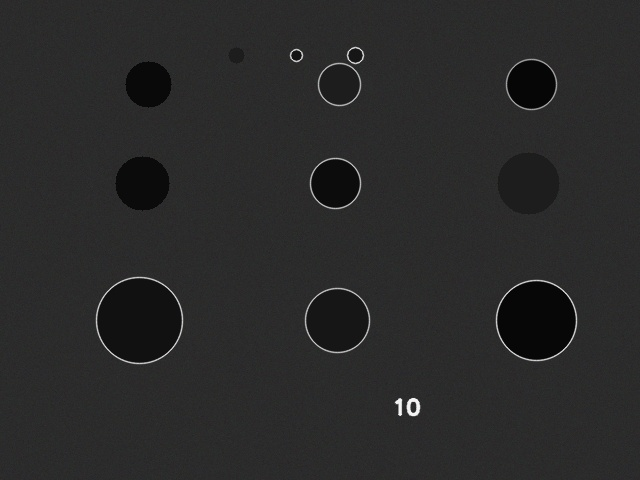hole: (96, 277, 182, 363), (496, 280, 576, 360), (305, 288, 369, 352), (497, 152, 559, 214), (115, 156, 169, 210), (506, 59, 556, 109), (310, 158, 360, 208), (125, 61, 171, 107), (318, 63, 360, 105), (228, 47, 244, 63), (347, 47, 363, 63), (290, 49, 302, 61)
